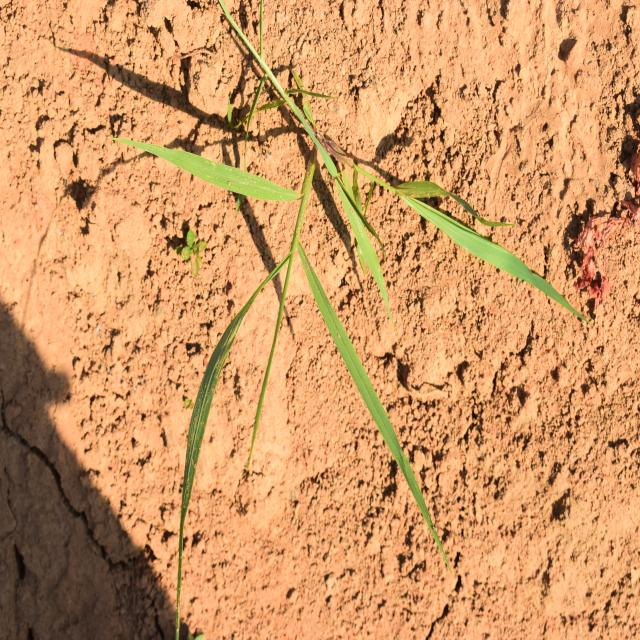green_foxtail: (165, 152, 427, 535)
